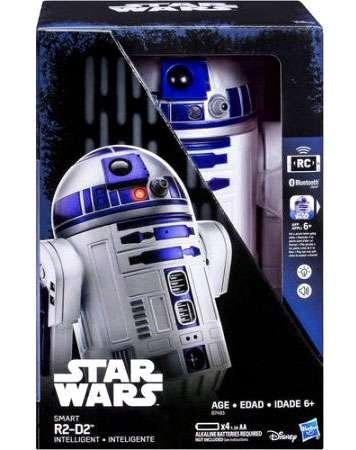r2d2: (42, 146, 231, 351)
